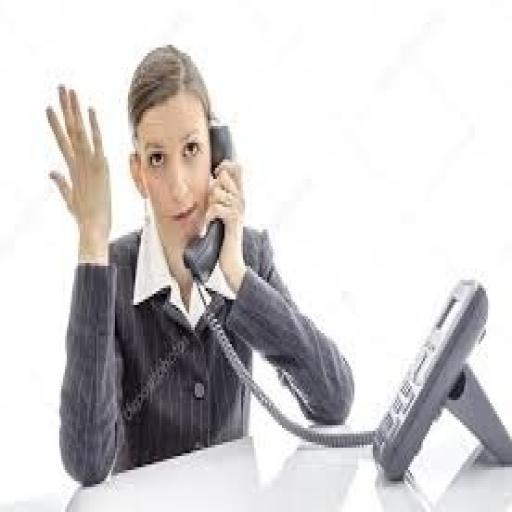calling: (43, 42, 356, 487)
